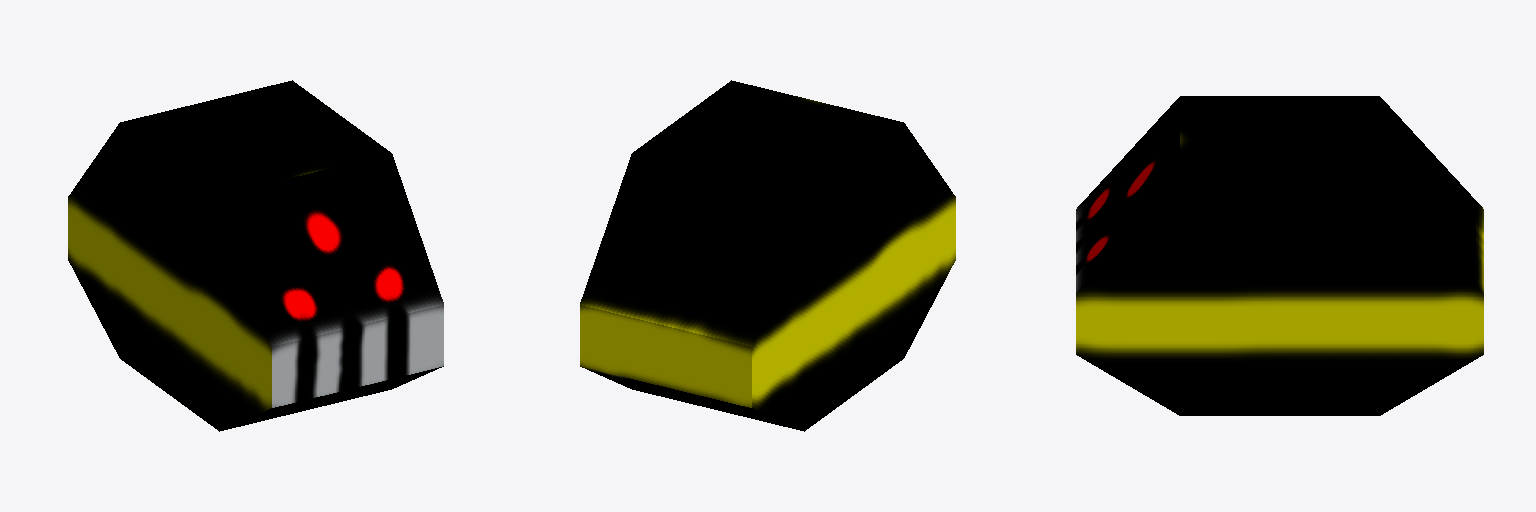
3 views of the same model, side by side, from view 1: azimuth 30°, elevation 25°; view 2: azimuth 150°, elevation 25°; view 3: azimuth 270°, elevation 25° (orthographic).
Visible parts, largest first — view 1: Cube; view 2: Cube; view 3: Cube.
Boxes of the visible parts, <box> form: Cube: <box>68,80,443,431</box>; Cube: <box>580,80,955,431</box>; Cube: <box>1076,96,1483,415</box>.
Bounding box in the file's own units: 4 × 5.23 × 8.18.
Materials: 1 (1 with a texture image).